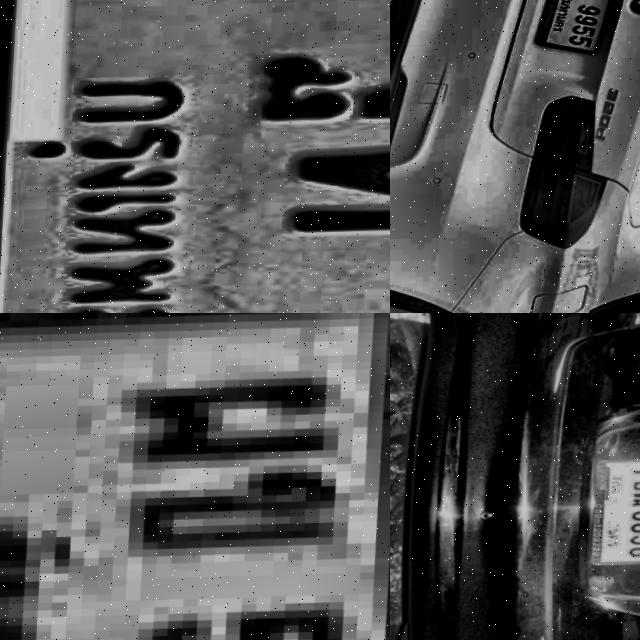license-plate: (0, 313, 390, 640), (0, 0, 390, 313), (591, 454, 640, 567), (534, 0, 632, 56)
